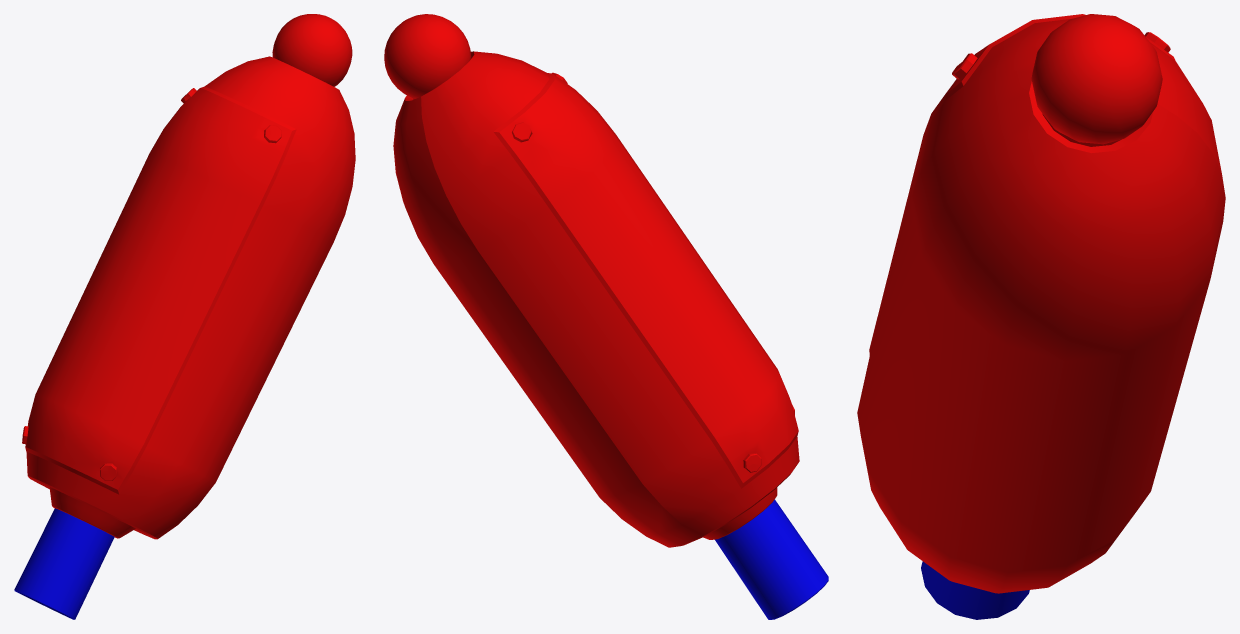
Rendered from shotgun_001.fbx.
3 renders of one model, left to right at view 1: azimuth 30°, elevation 25°; view 2: azimuth 150°, elevation 25°; view 3: azimuth 270°, elevation 25°, orthographic. The views are drawn at different scales.
Visible parts, largest first — view 1: polySurface6, polySurface5, polySurface3; view 2: polySurface6, polySurface5, polySurface3; view 3: polySurface6, polySurface3, polySurface5.
Part boxes in pixels (x1,y1,x2,y2): polySurface6: (22,56,355,539); polySurface5: (14,508,114,619); polySurface3: (272,14,352,86); polySurface6: (393,51,799,547); polySurface5: (715,499,828,619); polySurface3: (384,14,471,98); polySurface6: (857,14,1225,593); polySurface3: (1031,14,1162,144); polySurface5: (921,561,1029,619).
Size of the model in its own units: 38.36 by 50.93 by 20.64.
